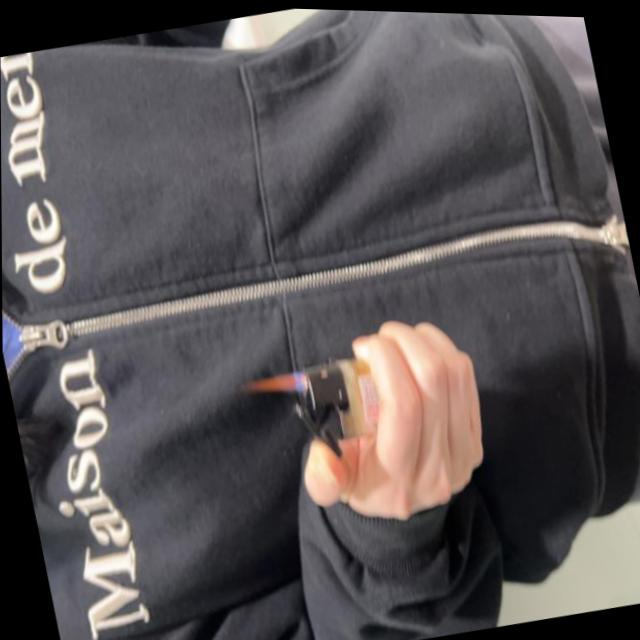Fire: (239, 361, 306, 399)
